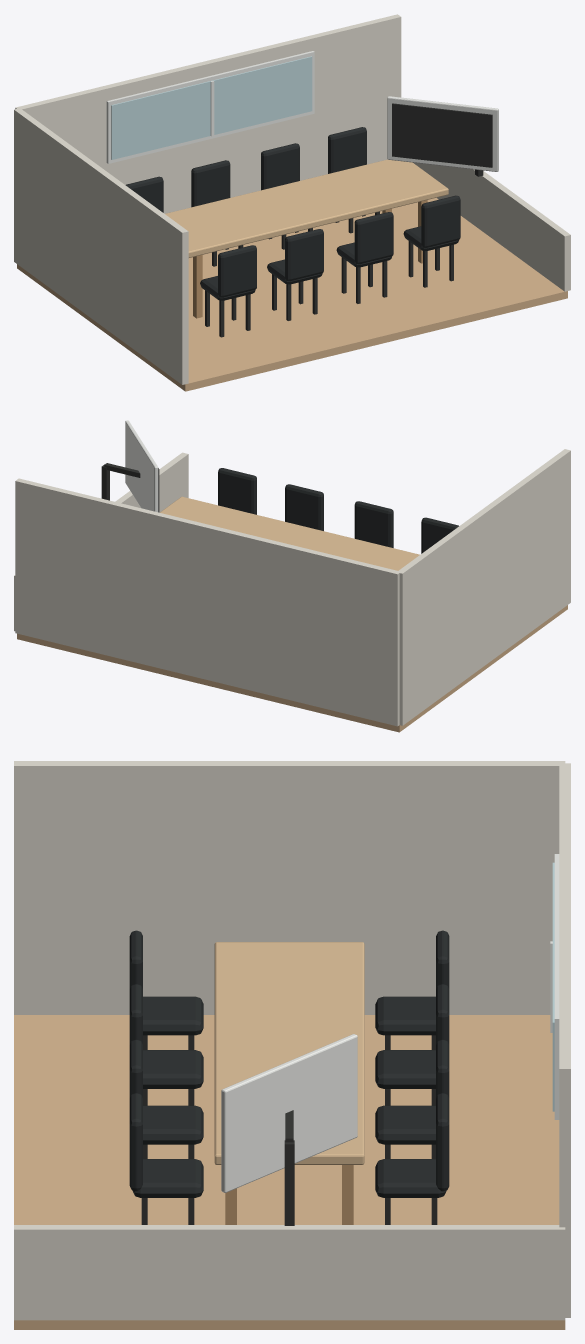
Rendered from room5.glb.
The picture shows the model from 3 angles, top to bottom: view 1: azimuth 30°, elevation 25°; view 2: azimuth 150°, elevation 25°; view 3: azimuth 270°, elevation 25°; orthographic projection. The views are drawn at different scales.
Parts seen in each view (by area): view 1: Floor, Left wall, Back wall, Meeting table, Window glass, Right wall, Screen, Window surround, Screen frame, Chair back.006, Chair back.004, Chair back (+6 smaller); view 2: Back wall, Left wall, Meeting table, Floor, Screen frame, Right wall, Chair back.002, Chair back.006, Chair back.004, Chair back; view 3: Left wall, Floor, Right wall, Meeting table, Screen frame, Back wall, Chair seat.006, Chair seat.007, Chair seat, Chair seat.004, Chair seat.005, Chair seat.001 (+14 smaller).
Part boxes in pixels (box(x1,y1,x2,y2)): Floor: box(17, 197, 567, 391); Left wall: box(14, 108, 188, 384); Back wall: box(15, 14, 401, 213); Meeting table: box(165, 159, 448, 257); Window glass: box(111, 56, 312, 159); Right wall: box(413, 162, 570, 291); Screen: box(392, 103, 492, 167); Window surround: box(106, 51, 314, 163); Screen frame: box(387, 96, 498, 171); Chair back.006: box(421, 195, 460, 247); Chair back.004: box(354, 212, 393, 264); Chair back: box(218, 245, 256, 297); Back wall: box(15, 478, 400, 726); Left wall: box(398, 449, 570, 725); Meeting table: box(160, 496, 419, 570); Floor: box(17, 605, 567, 732); Screen frame: box(125, 420, 158, 512); Right wall: box(14, 452, 188, 631); Chair back.002: box(354, 501, 393, 547); Chair back.006: box(218, 468, 256, 514); Chair back.004: box(285, 484, 323, 530); Chair back: box(421, 517, 458, 553); Left wall: box(14, 761, 565, 1014); Floor: box(14, 1015, 565, 1329); Right wall: box(14, 1225, 565, 1320); Meeting table: box(214, 942, 364, 1164); Screen frame: box(221, 1034, 357, 1192); Back wall: box(559, 763, 570, 1317); Chair seat.006: box(132, 1159, 203, 1197); Chair seat.007: box(375, 1159, 446, 1197); Chair seat: box(143, 996, 203, 1035); Chair seat.004: box(143, 1105, 203, 1144); Chair seat.005: box(375, 1105, 435, 1144); Chair seat.001: box(375, 996, 435, 1035).
Size of the model in its own units: 4.41 by 1.73 by 3.34.
